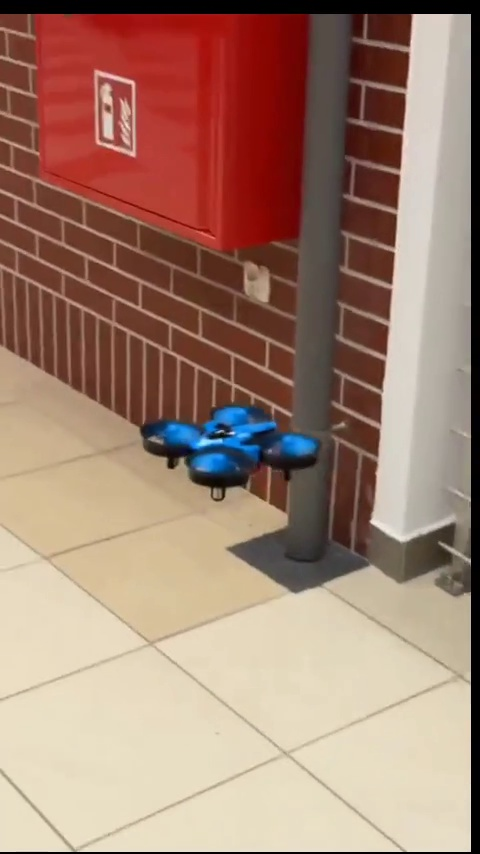drone: (144, 404, 322, 503)
